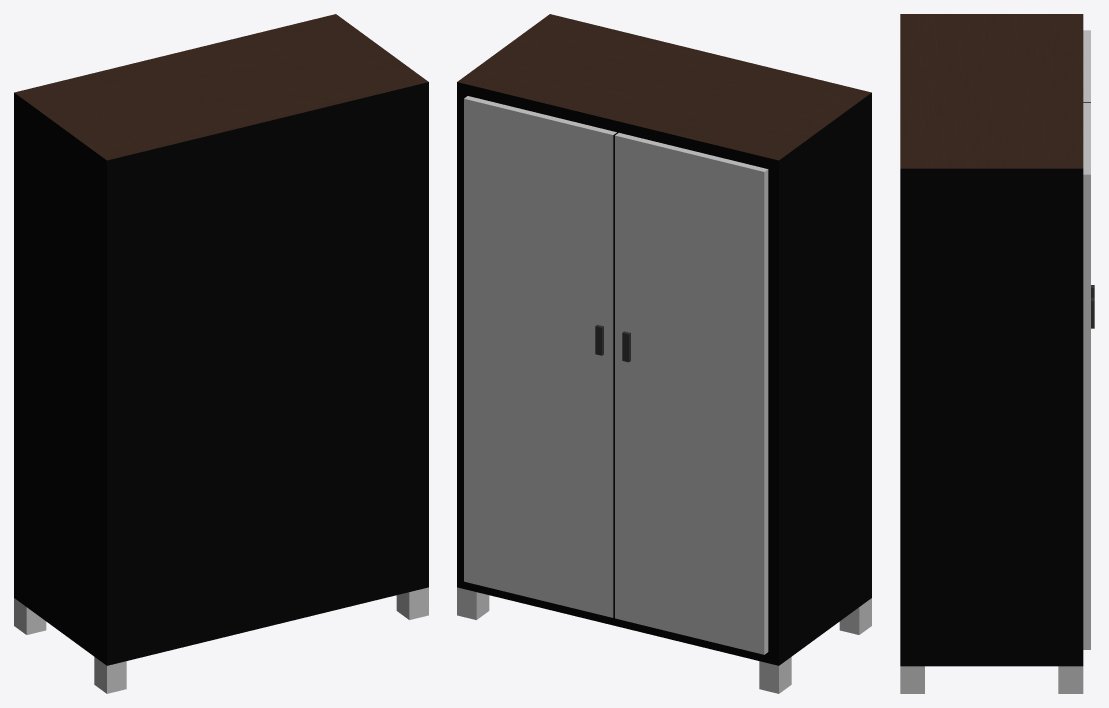
The model's file is Cupboard.fbx.
The picture shows the model from 3 angles, left to right: view 1: azimuth 30°, elevation 25°; view 2: azimuth 150°, elevation 25°; view 3: azimuth 270°, elevation 25°; orthographic projection.
Visible parts, largest first — view 1: Cupboard; view 2: Cupboard; view 3: Cupboard.
Boxes of the visible parts, x1,y1,x2,y2 form: Cupboard: [14, 14, 428, 693]; Cupboard: [457, 14, 871, 693]; Cupboard: [900, 14, 1090, 693].
Size of the model in its own units: 1.2 by 1.9 by 0.6377.
